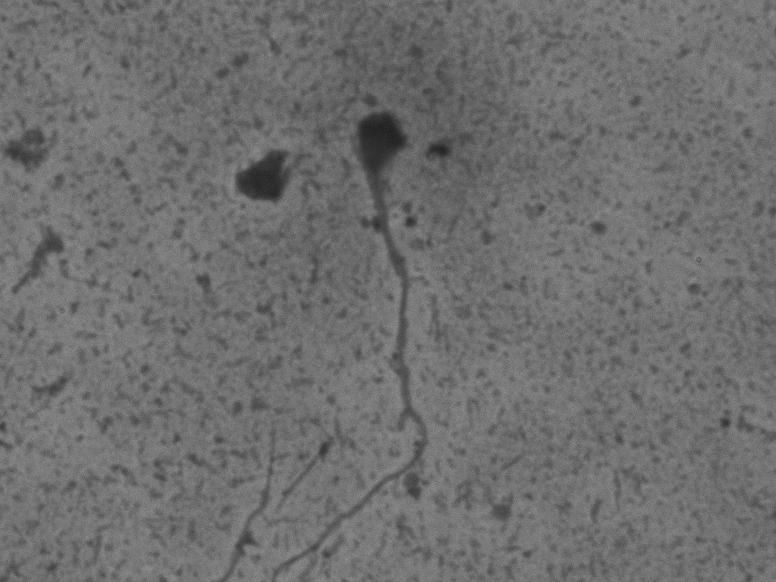Abnormal: (271, 99, 440, 574)
